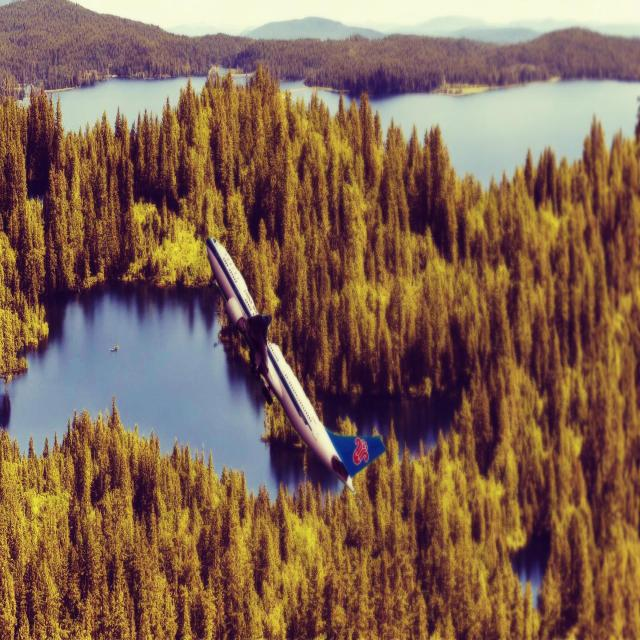airplane: (205, 235, 386, 494)
